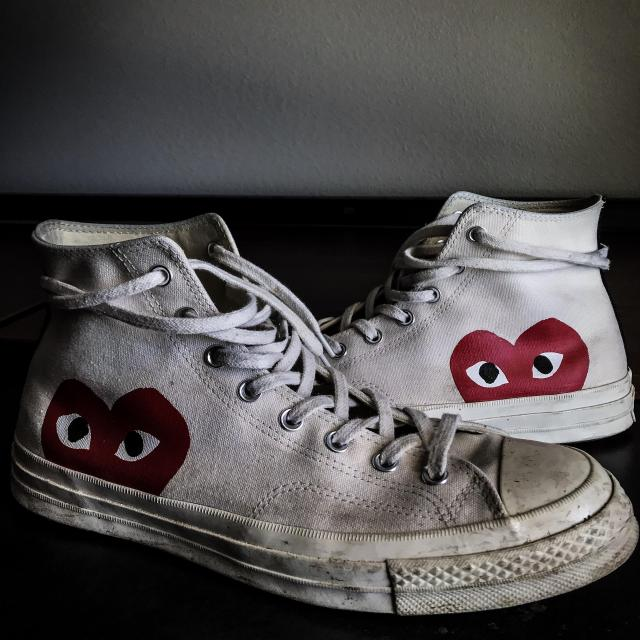shoe: (0, 194, 631, 636), (394, 170, 640, 509)
